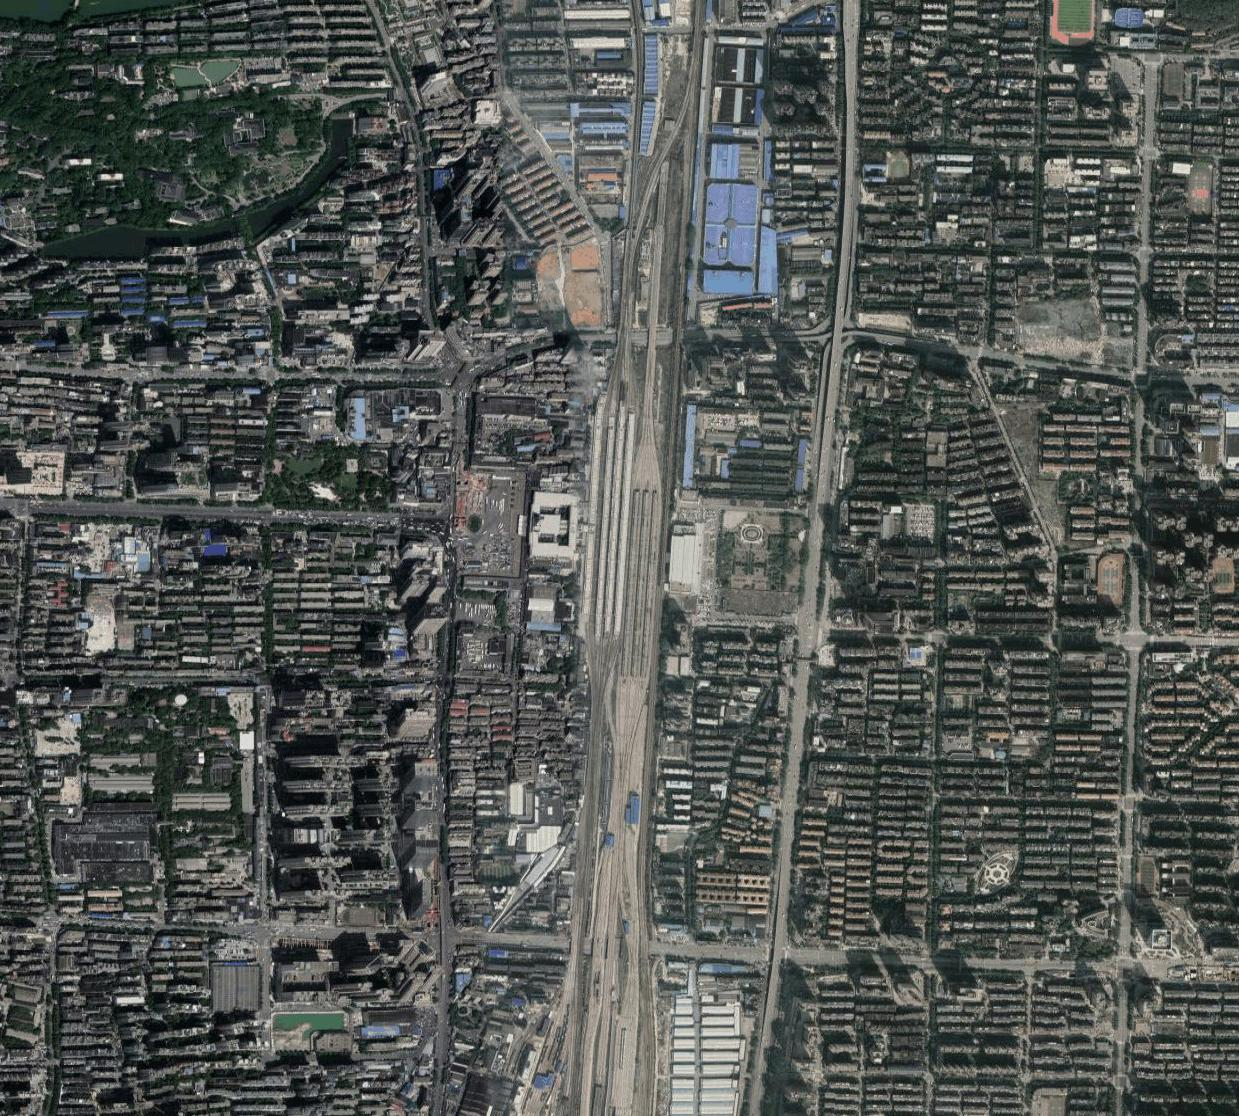train_station: (581, 397, 665, 721)
